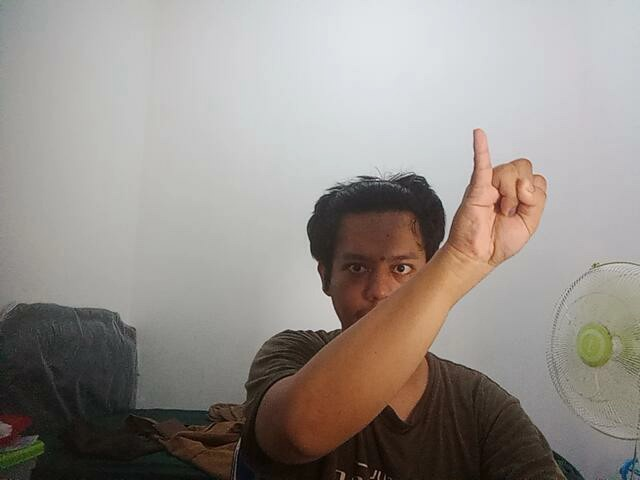I: (439, 117, 562, 275)
